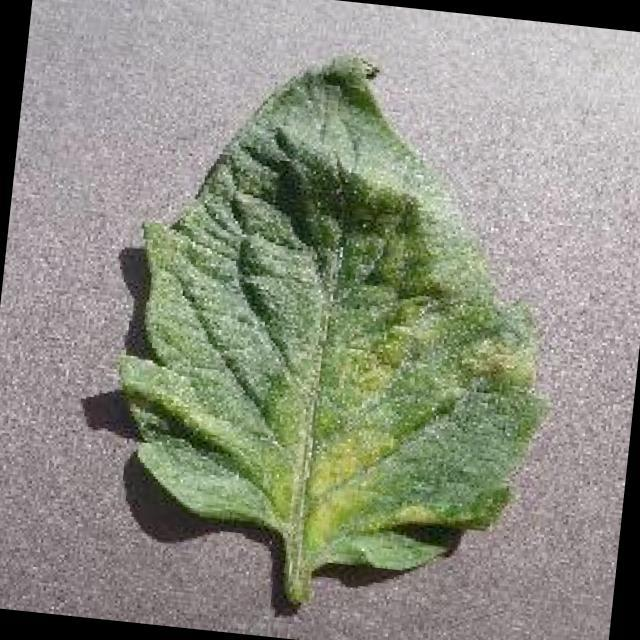Tomato spider mites leaf: (97, 34, 582, 592)
